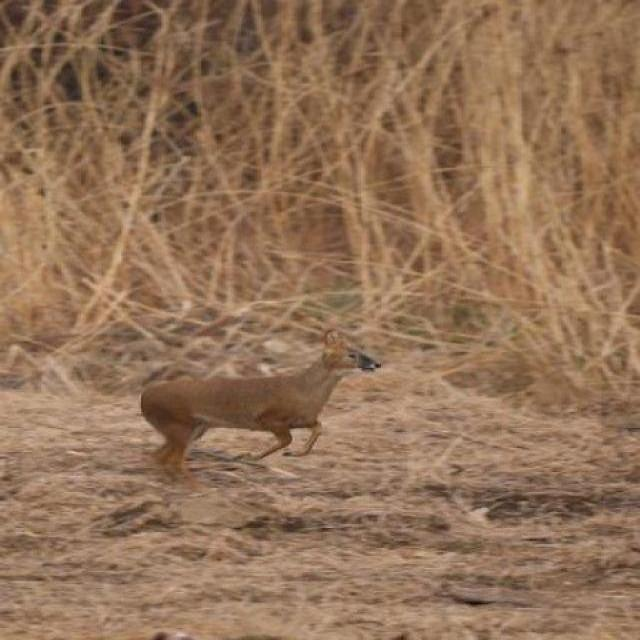deer: (138, 326, 386, 491)
